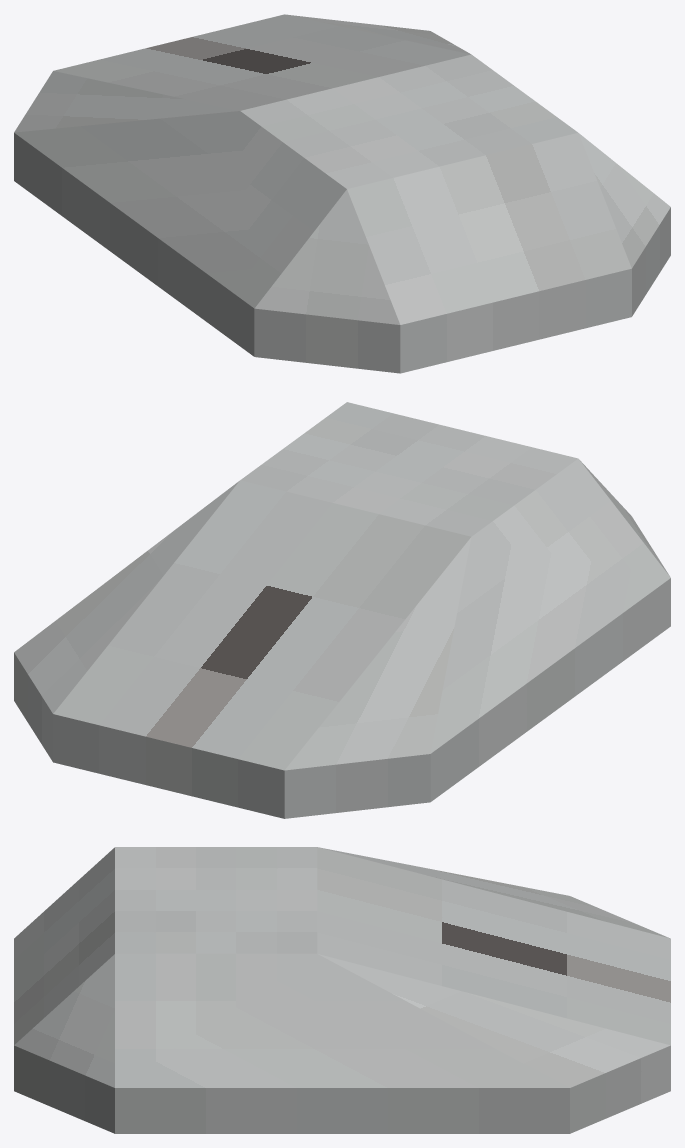
The model's file is computer_mouse.gltf.
3 renders of one model, top to bottom at view 1: azimuth 30°, elevation 25°; view 2: azimuth 150°, elevation 25°; view 3: azimuth 270°, elevation 25°, orthographic. The views are drawn at different scales.
Visible parts, largest first — view 1: beveled_cuboid; view 2: beveled_cuboid; view 3: beveled_cuboid.
Boxes of the visible parts, x1,y1,x2,y2 form: beveled_cuboid: (14, 14, 670, 373); beveled_cuboid: (14, 402, 670, 818); beveled_cuboid: (14, 847, 670, 1133).
Bounding box in the file's own units: 0.5625 × 0.2188 × 0.8125.
1 material, 1 textured.
